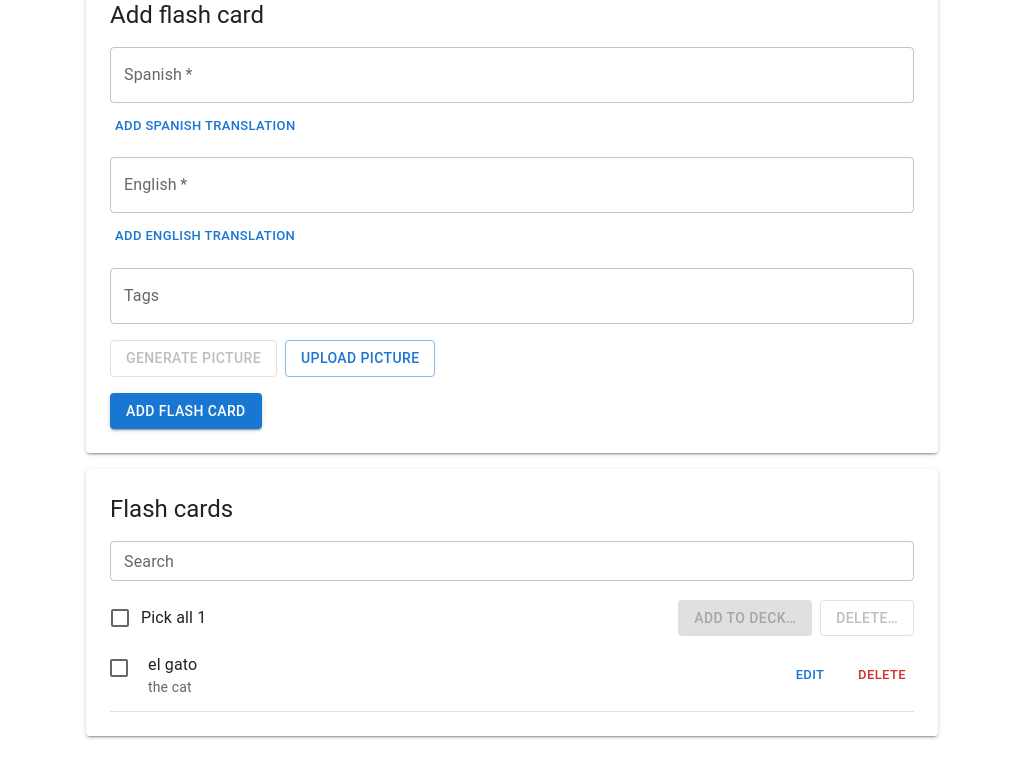
Scenario: deleting a card › asks first, saying what is lost, and keeps the card when cancelled
(page scrolled)
Step 1. Click the button named "Delete \"el gato\"" → coordinates (882, 675), box [850,660,914,690]
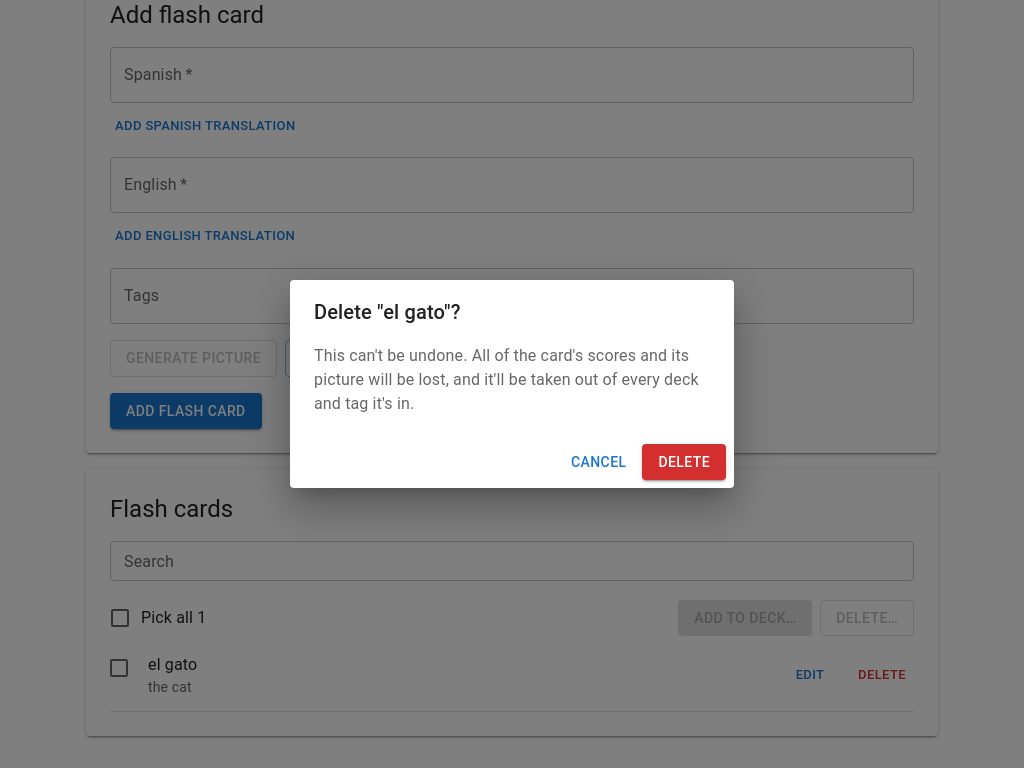
Expected: the dialog "Delete \"el gato\"?" shows "This can't be undone.", [314,346,699,413]
Expected: the dialog "Delete \"el gato\"?" shows "All of the card's scores", [314,346,699,413]
Expected: the dialog "Delete \"el gato\"?" shows "every deck and tag", [314,346,699,413]
Step 2. Click the button "Cancel" → coordinates (599, 462), box [563,444,634,480]
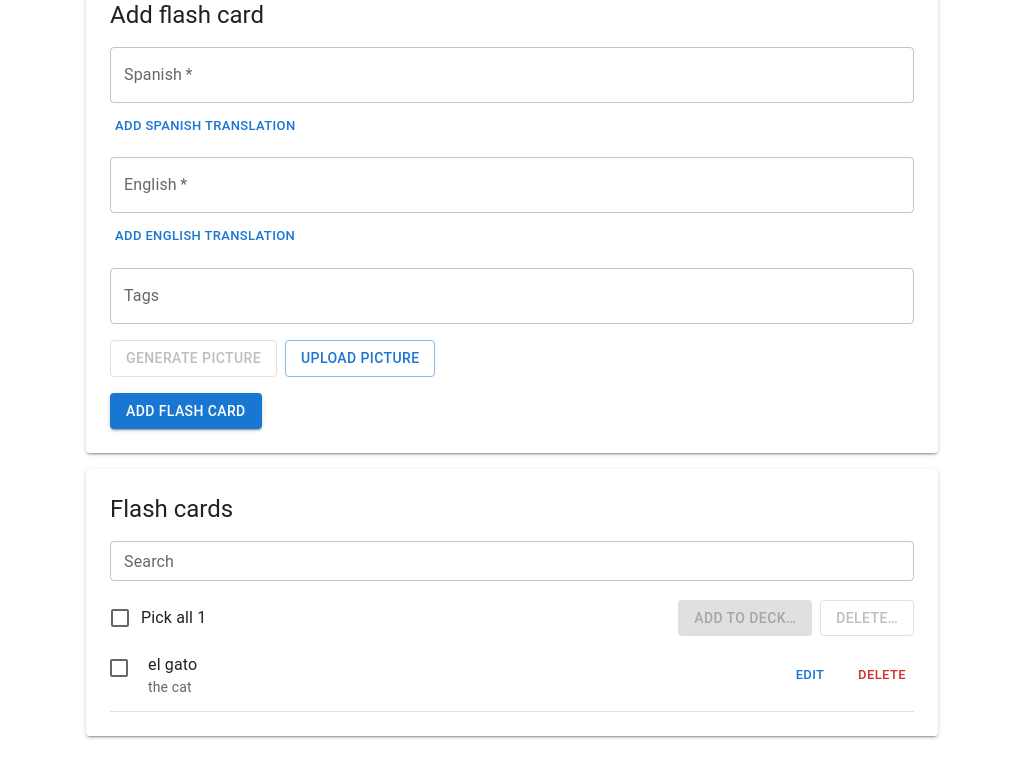
Expected: the text "el gato" is shown, [148,655,197,674]
Expected: the dialog is gone
